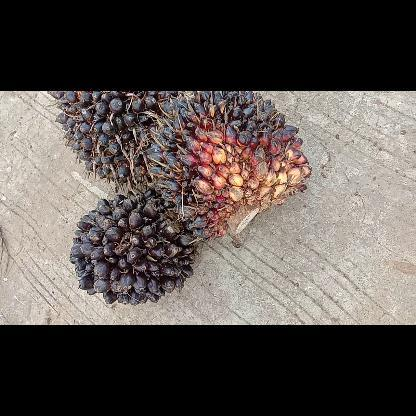TBS mentah: (145, 91, 318, 242), (68, 183, 196, 307), (39, 91, 186, 187)
